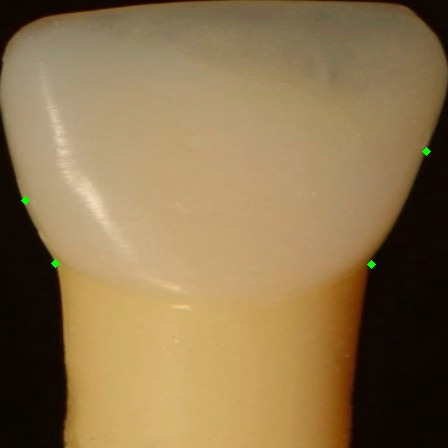coin_1: (371, 264, 391, 284)
coin_2: (426, 151, 446, 171)
coin_3: (55, 263, 75, 283)
coin_4: (25, 200, 45, 220)
